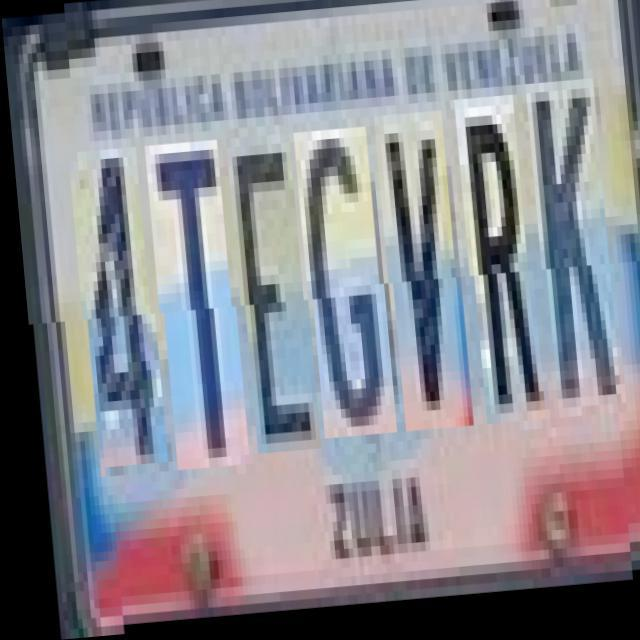4: (70, 149, 160, 469)
E: (228, 138, 312, 458)
G: (295, 132, 388, 444)
K: (528, 89, 618, 428)
R: (456, 104, 537, 432)
T: (146, 143, 242, 473)
V: (376, 118, 466, 438)
